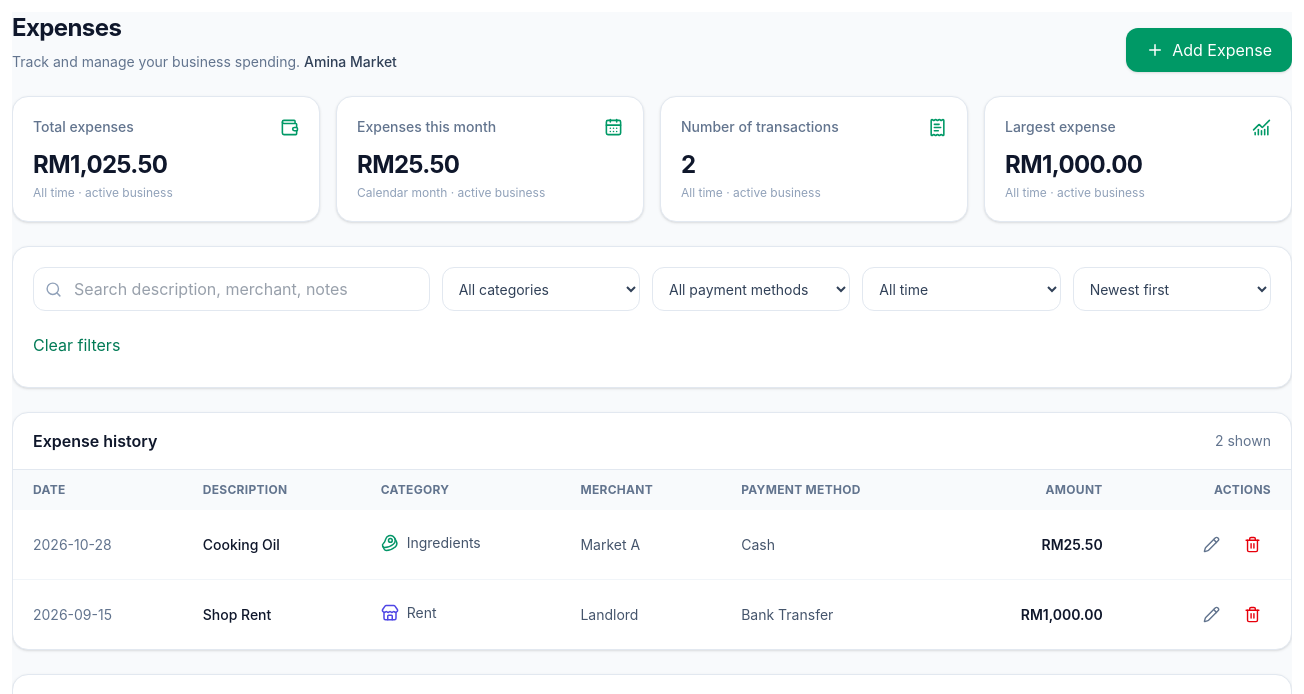
Test: expense tracker interactions › searches, filters category and local dates, and clears filters
Type "market" into the field named "Search expenses".
click(231, 289); type("market")  # box x1=33 y1=267 x2=430 y2=311
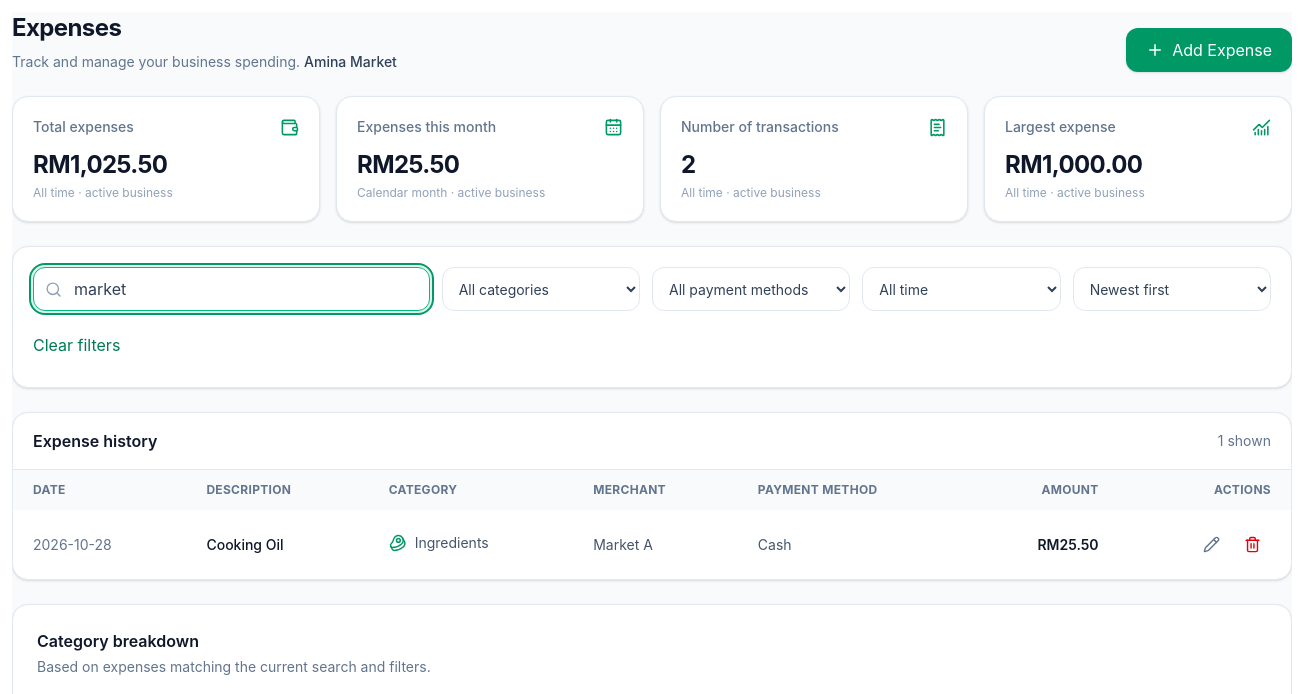
Expected: the text "1 shown" is shown, x1=1218 y1=431 x2=1271 y2=451
Clear the field named "Search expenses" at (231, 289), box x1=33 y1=267 x2=430 y2=311
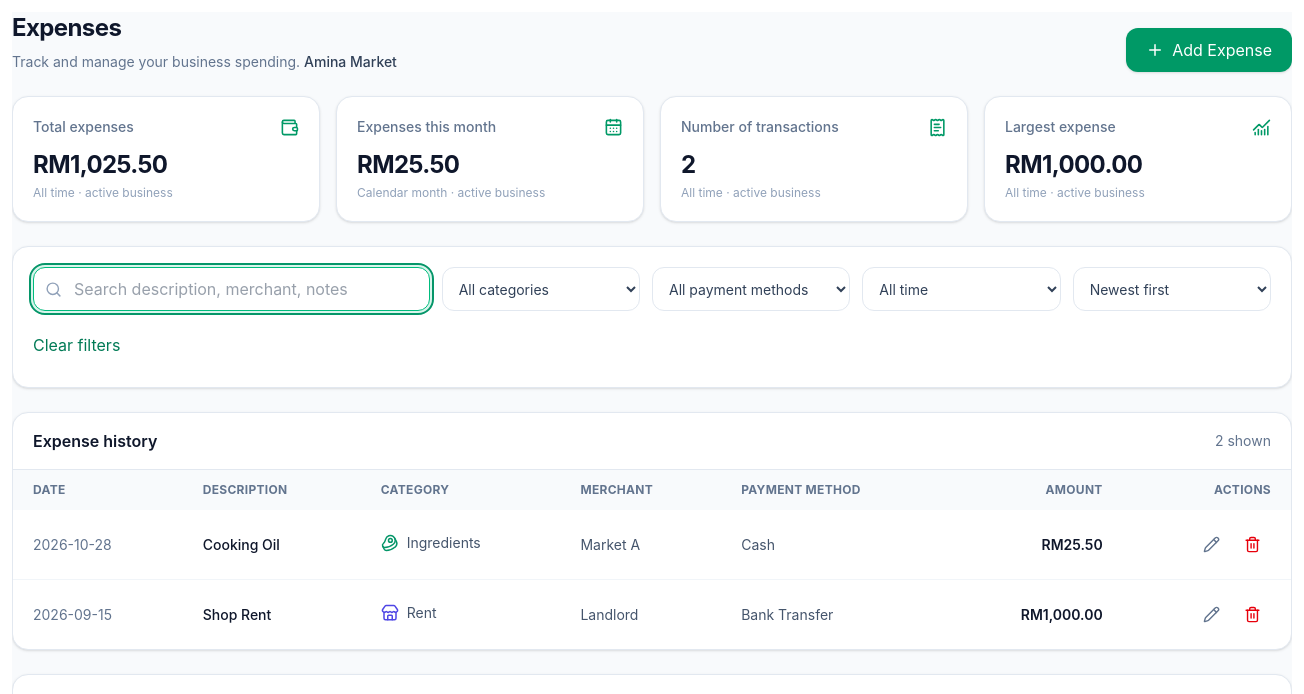
Select "Rent" in the dropdown named "Filter by category" at (541, 289), box x1=442 y1=267 x2=640 y2=311
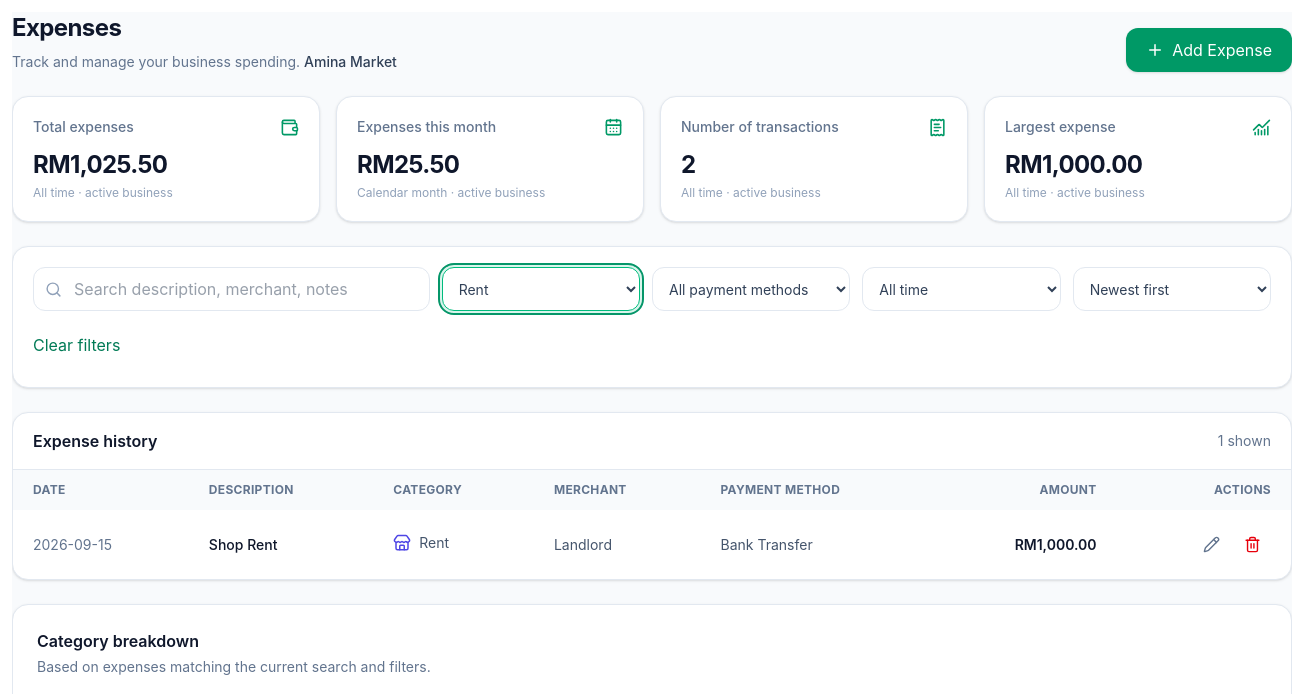
Expected: the text "1 shown" is shown, x1=1218 y1=431 x2=1271 y2=451
Select "Today" in the dropdown named "Filter by date" at (961, 289), box x1=862 y1=267 x2=1061 y2=311
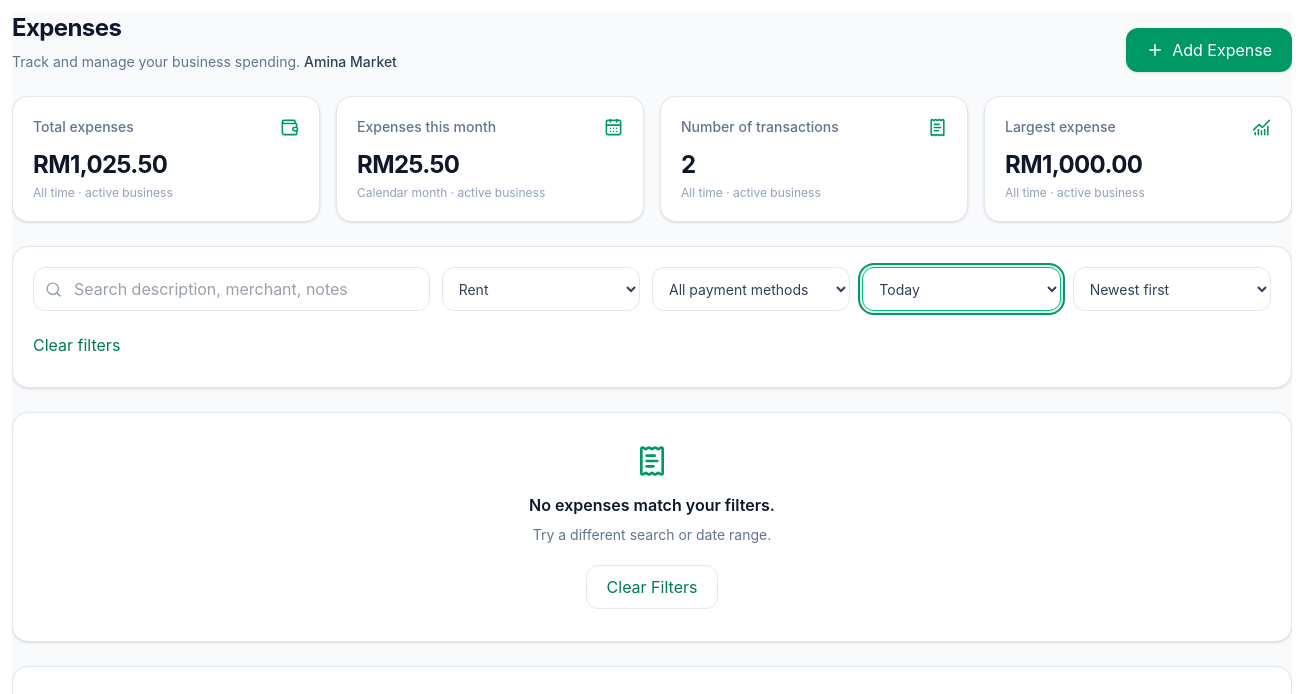
Expected: the heading "No expenses match your filters." is shown, x1=529 y1=495 x2=775 y2=515
Click the button "Clear Filters".
click(652, 587)  # box x1=586 y1=565 x2=718 y2=609
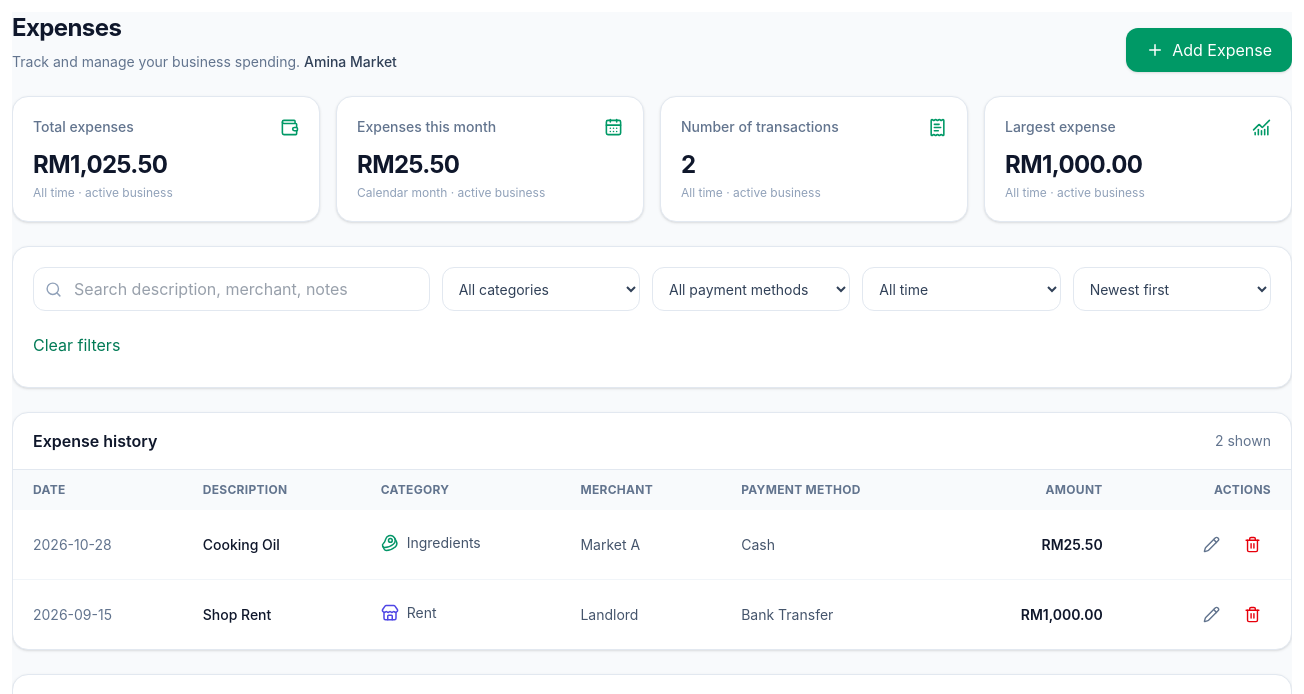
Expected: the text "2 shown" is shown, x1=1215 y1=431 x2=1271 y2=451
